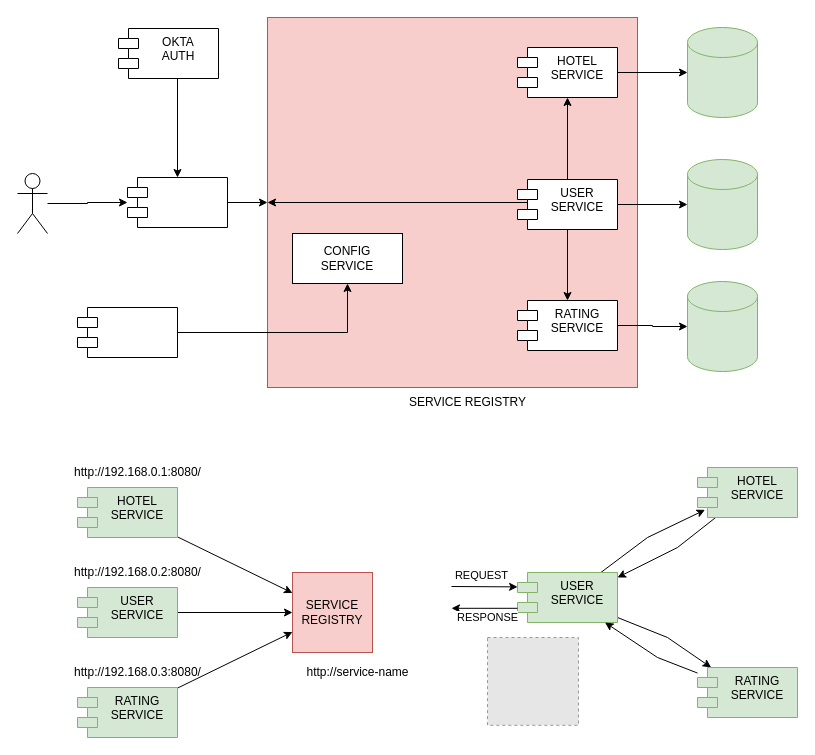
Some shapes in this 815 by 755 pixel diagram are drawn without their labels. Grey dashed boxes stand in for pictures. The shapes that lost their labels are listed below. From the top down, each one's centre as x and y in pixels, then its label:
pixel 722 72: ORACLE
pixel 177 202: API GATEWAY
pixel 722 204: POSTGRES
pixel 127 332: GITHUB
pixel 722 326: SQL SERVER
